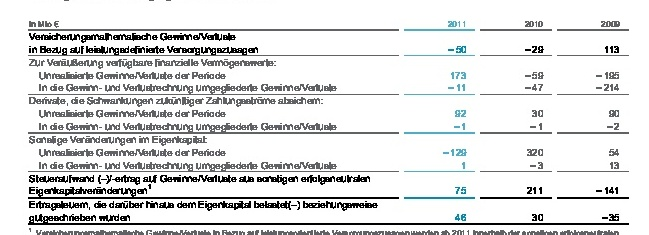table: (0, 0, 649, 235)
